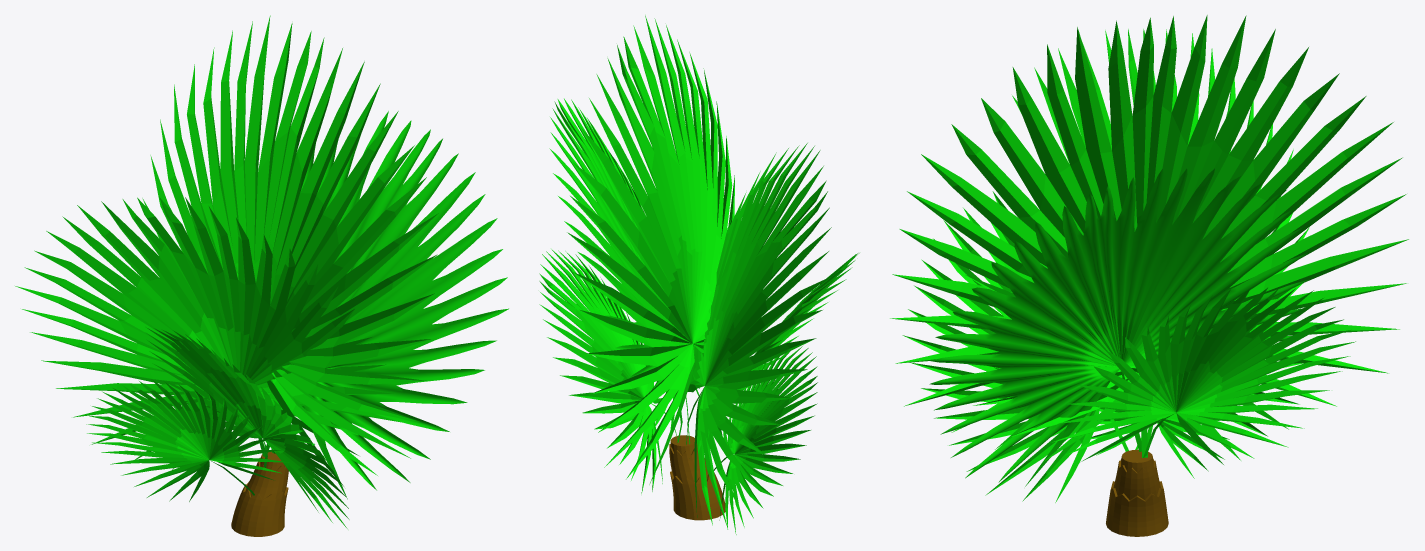
File: palmetto.fbx
The picture shows the model from 3 angles, left to right: view 1: azimuth 30°, elevation 25°; view 2: azimuth 150°, elevation 25°; view 3: azimuth 270°, elevation 25°; orthographic projection. The views are drawn at different scales.
Visible parts, largest first — view 1: polySurface6, pCylinder2; view 2: polySurface6, pCylinder2; view 3: polySurface6, pCylinder2.
Part boxes in pixels (left/top/right/bottom): polySurface6: left=15, top=15, right=508, bottom=528; pCylinder2: left=231, top=451, right=288, bottom=536; polySurface6: left=539, top=15, right=859, bottom=534; pCylinder2: left=669, top=435, right=725, bottom=520; polySurface6: left=890, top=15, right=1408, bottom=502; pCylinder2: left=1106, top=449, right=1168, bottom=536.
Bounding box in the file's own units: 3.95 × 4.97 × 4.28.
